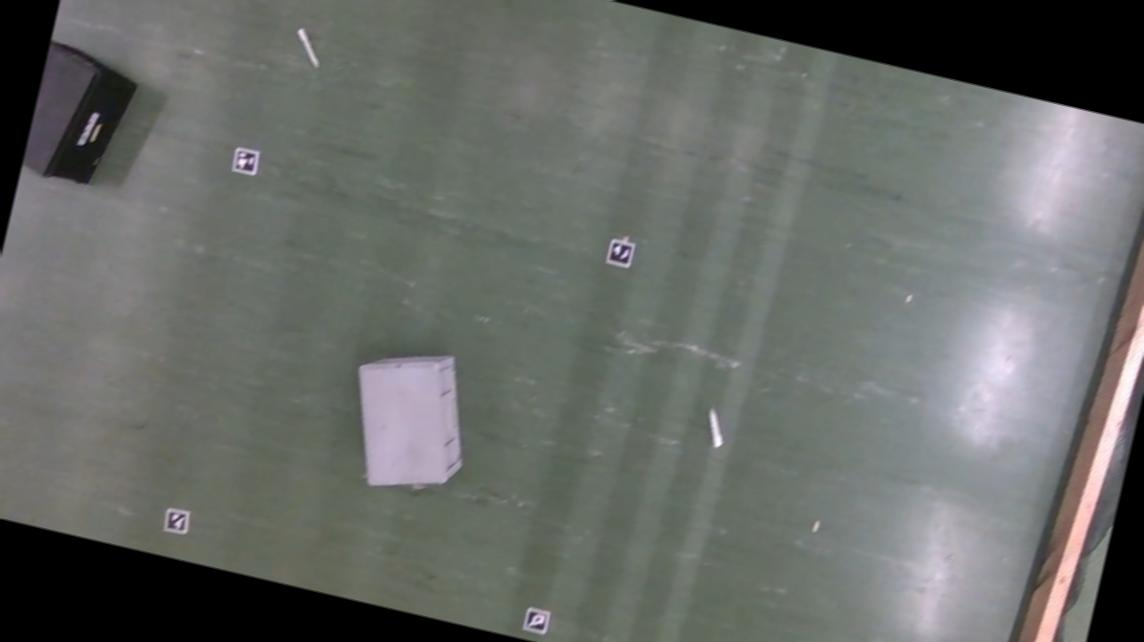probes: (291, 27, 323, 66), (702, 406, 729, 448)
rako: (332, 333, 485, 503), (19, 39, 142, 191)
